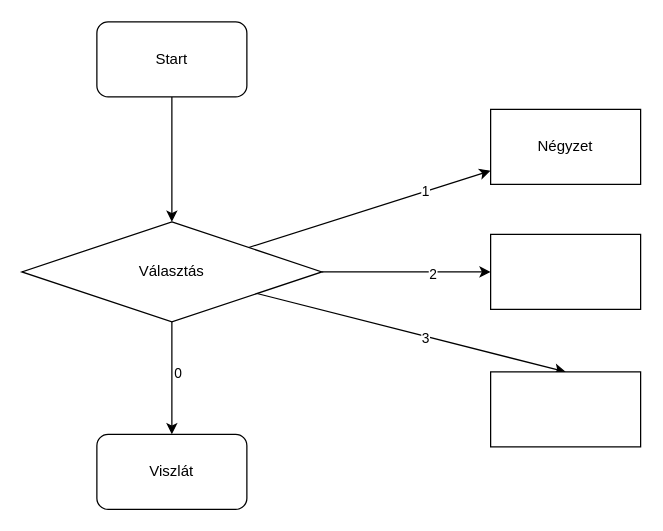
Some shapes in this 663 by 531 pixel diagram are drawn without their labels. Here are the shapes that lost their labels. From the top down, the centre of each, then its label:
pixel 565 271: Téglalap
pixel 565 409: Kör
